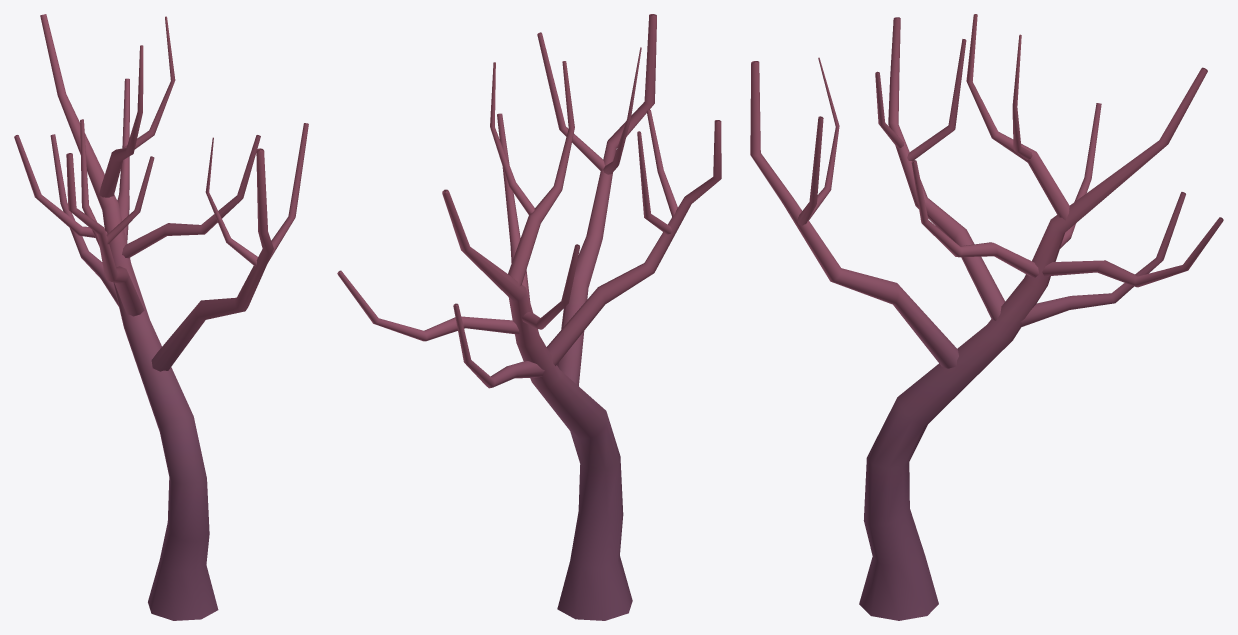
File: tree01.glb
The picture shows the model from 3 angles, left to right: view 1: azimuth 30°, elevation 25°; view 2: azimuth 150°, elevation 25°; view 3: azimuth 270°, elevation 25°; orthographic projection. The views are drawn at different scales.
Parts seen in each view (by area): view 1: Tree.02; view 2: Tree.02; view 3: Tree.02.
Part boxes in pixels (<box>): Tree.02: <box>14,14,308,620</box>; Tree.02: <box>337,14,721,620</box>; Tree.02: <box>750,14,1223,620</box>.
Bounding box in the file's own units: 5.04 × 12.32 × 8.97.
Materials: 1 (1 with a texture image).
